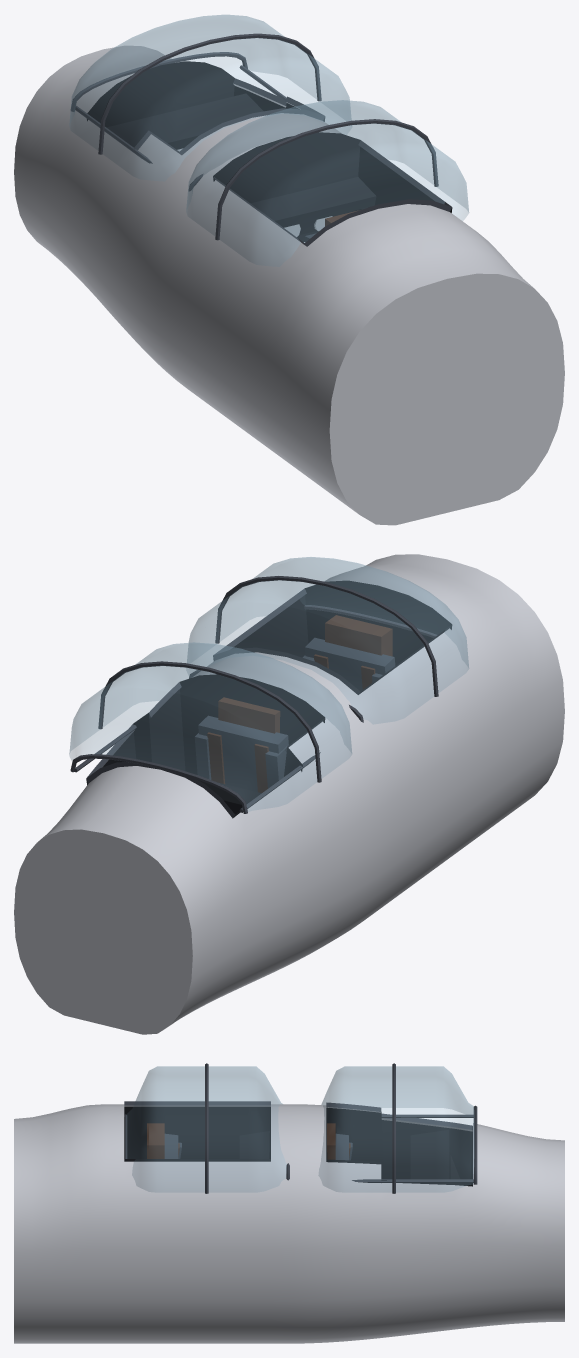
File: cockpit_tandem.glb
3 renders of one model, top to bottom at view 1: azimuth 30°, elevation 25°; view 2: azimuth 150°, elevation 25°; view 3: azimuth 270°, elevation 25°, orthographic. The views are drawn at different scales.
Parts seen in each view (by area): view 1: cockpit_tandem, cockpit_tandem_Glas; view 2: cockpit_tandem, cockpit_tandem_Glas; view 3: cockpit_tandem, cockpit_tandem_Glas.
Boxes of the visible parts, x1,y1,x2,y2 form: cockpit_tandem: (14,45,564,525); cockpit_tandem_Glas: (69,14,469,266); cockpit_tandem: (14,554,564,1034); cockpit_tandem_Glas: (69,557,468,813); cockpit_tandem: (14,1101,564,1343); cockpit_tandem_Glas: (124,1063,477,1193).
Bounding box in the file's own units: 1.23 × 1.49 × 3.1.
